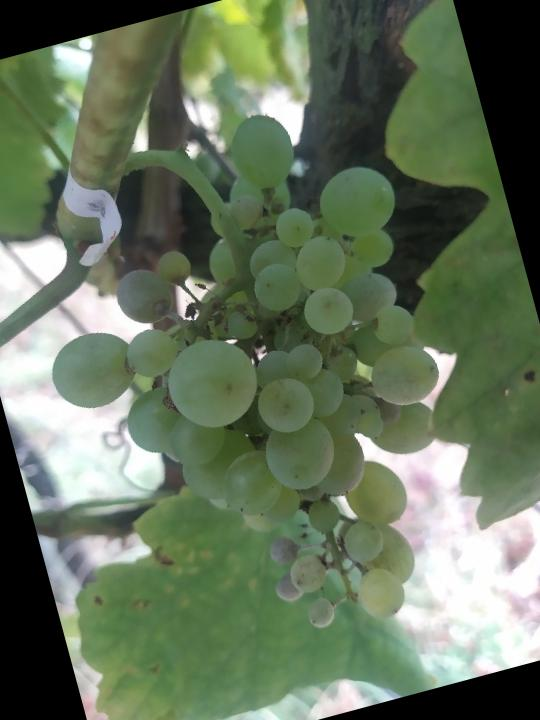grape: (0, 78, 507, 693)
